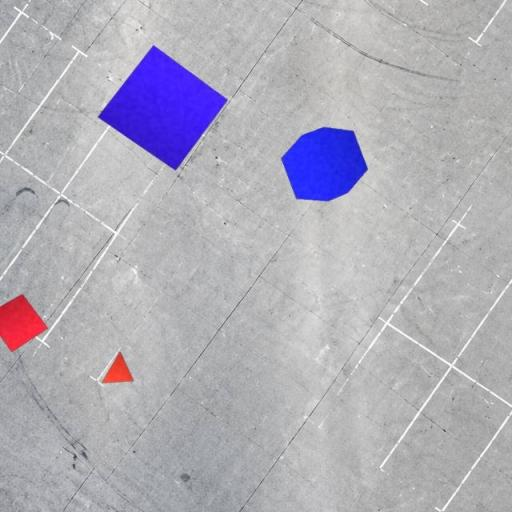BLUE_SQUARE: (97, 44, 229, 172)
RED_SQUARE: (0, 293, 49, 353)
